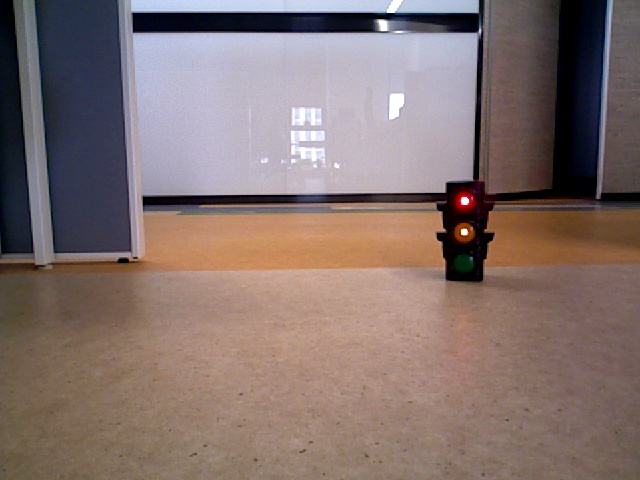red: (447, 184, 480, 275)
